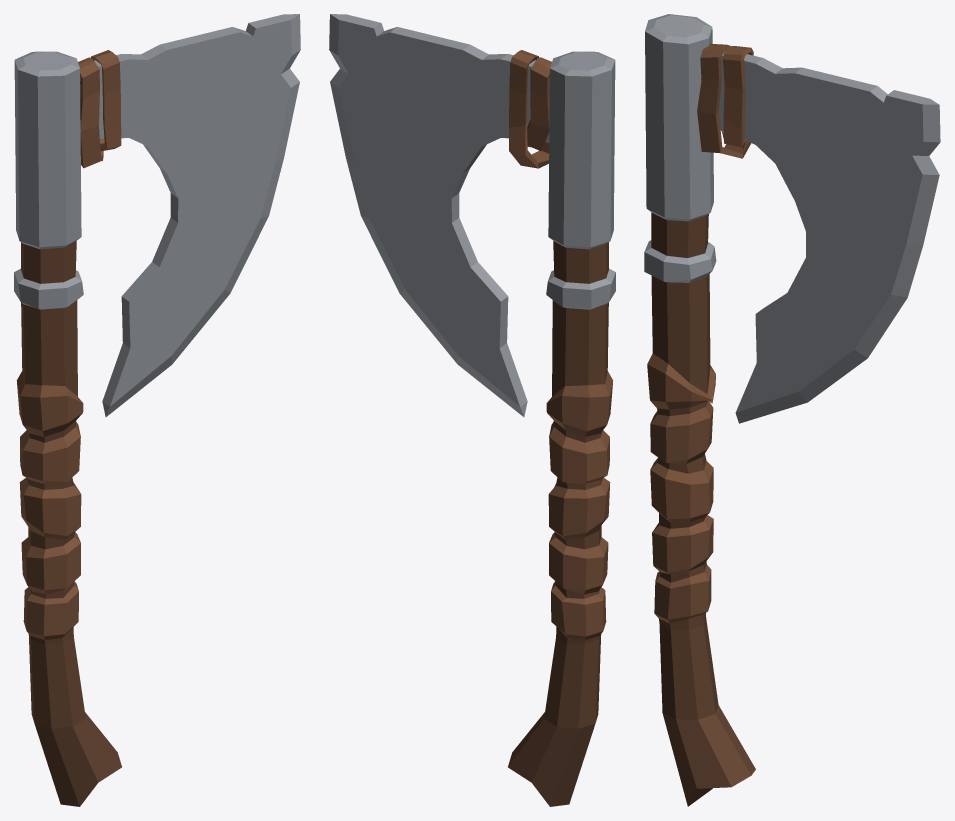
File: Axe_Small.gltf
The picture shows the model from 3 angles, left to right: view 1: azimuth 30°, elevation 25°; view 2: azimuth 150°, elevation 25°; view 3: azimuth 330°, elevation 25°; orthographic projection. The views are drawn at different scales.
Parts seen in each view (by area): view 1: Axe_Small; view 2: Axe_Small; view 3: Axe_Small.
Part boxes in pixels (box(x1,y1,x2,y2)): Axe_Small: box(14, 14, 300, 806); Axe_Small: box(329, 14, 615, 806); Axe_Small: box(644, 14, 940, 806).
Bounding box in the file's own units: 1.17 × 2.96 × 0.2483.
